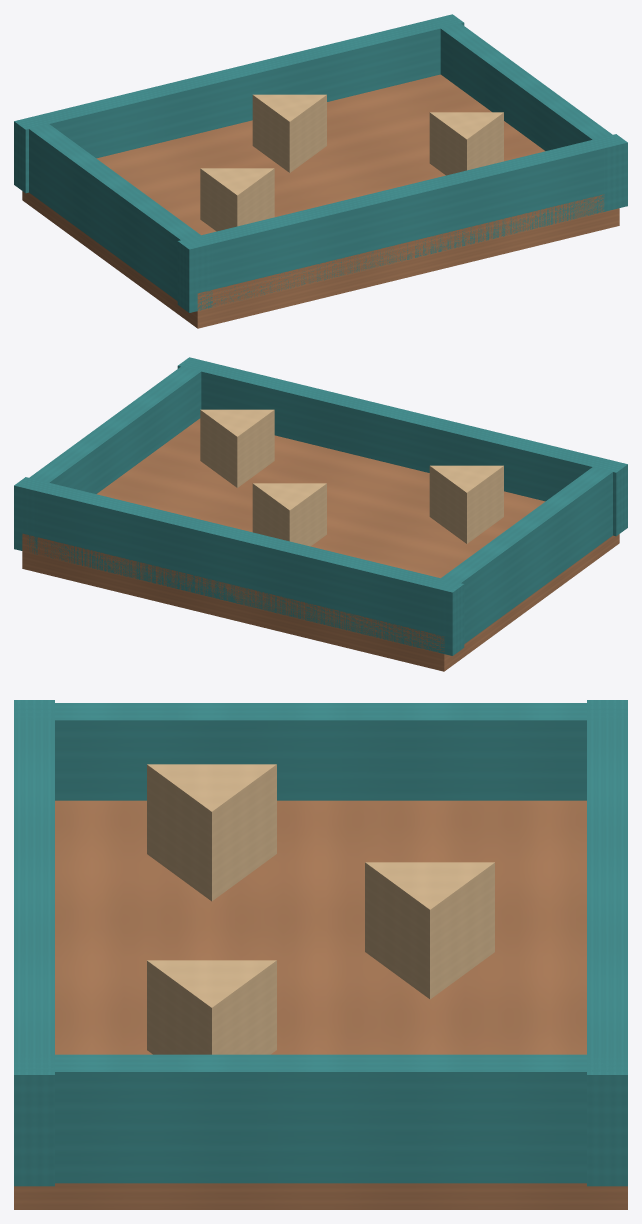
File: atlas100-s091-a03.lod2.glb
3 renders of one model, top to bottom at view 1: azimuth 30°, elevation 25°; view 2: azimuth 150°, elevation 25°; view 3: azimuth 270°, elevation 25°, orthographic. The views are drawn at different scales.
Visible parts, largest first — view 1: atlas100-s091-a03:part-000, atlas100-s091-a03:part-002, atlas100-s091-a03:part-001, atlas100-s091-a03:part-003, atlas100-s091-a03:part-004, atlas100-s091-a03:part-006, atlas100-s091-a03:part-010, atlas100-s091-a03:part-008; view 2: atlas100-s091-a03:part-000, atlas100-s091-a03:part-001, atlas100-s091-a03:part-002, atlas100-s091-a03:part-003, atlas100-s091-a03:part-004, atlas100-s091-a03:part-010, atlas100-s091-a03:part-008, atlas100-s091-a03:part-006; view 3: atlas100-s091-a03:part-000, atlas100-s091-a03:part-004, atlas100-s091-a03:part-003, atlas100-s091-a03:part-001, atlas100-s091-a03:part-002, atlas100-s091-a03:part-006, atlas100-s091-a03:part-008, atlas100-s091-a03:part-010.
Part boxes in pixels (<box>): atlas100-s091-a03:part-000: <box>22,74,619,328</box>; atlas100-s091-a03:part-002: <box>177,134,627,312</box>; atlas100-s091-a03:part-001: <box>14,14,464,193</box>; atlas100-s091-a03:part-003: <box>29,124,212,311</box>; atlas100-s091-a03:part-004: <box>430,15,624,211</box>; atlas100-s091-a03:part-006: <box>252,94,326,172</box>; atlas100-s091-a03:part-010: <box>429,112,503,175</box>; atlas100-s091-a03:part-008: <box>200,168,274,231</box>; atlas100-s091-a03:part-000: <box>22,418,619,671</box>; atlas100-s091-a03:part-001: <box>14,477,464,655</box>; atlas100-s091-a03:part-002: <box>177,357,627,536</box>; atlas100-s091-a03:part-003: <box>429,467,612,654</box>; atlas100-s091-a03:part-004: <box>17,358,211,554</box>; atlas100-s091-a03:part-010: <box>200,409,274,487</box>; atlas100-s091-a03:part-008: <box>429,465,503,543</box>; atlas100-s091-a03:part-006: <box>252,483,326,546</box>; atlas100-s091-a03:part-000: <box>14,800,627,1209</box>; atlas100-s091-a03:part-004: <box>14,1054,627,1183</box>; atlas100-s091-a03:part-003: <box>14,703,627,800</box>; atlas100-s091-a03:part-001: <box>587,700,627,1186</box>; atlas100-s091-a03:part-002: <box>14,700,54,1186</box>; atlas100-s091-a03:part-006: <box>365,862,494,999</box>; atlas100-s091-a03:part-008: <box>147,764,276,901</box>; atlas100-s091-a03:part-010: <box>147,960,276,1054</box>.
Size of the model in its own units: 1.36 by 0.2563 by 0.9414.
3 materials, 3 textured.
